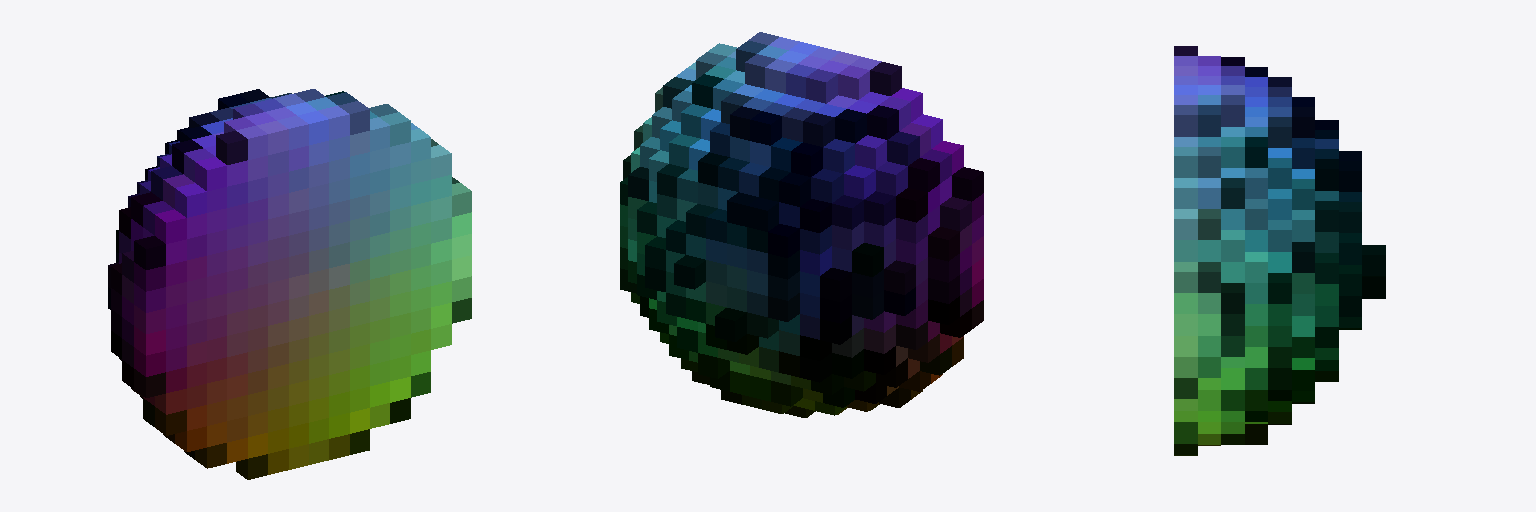
File: regen_iter_0.obj
The picture shows the model from 3 angles: view 1: azimuth 30°, elevation 25°; view 2: azimuth 150°, elevation 25°; view 3: azimuth 270°, elevation 25°; orthographic projection.
Visible parts, largest first — view 1: regen_iter_0; view 2: regen_iter_0; view 3: regen_iter_0.
Part boxes in pixels (x1,y1,x2,y2): regen_iter_0: (108, 89, 471, 479); regen_iter_0: (620, 32, 983, 417); regen_iter_0: (1174, 46, 1385, 455).
Size of the model in its own units: 1.6 by 1.6 by 0.9.